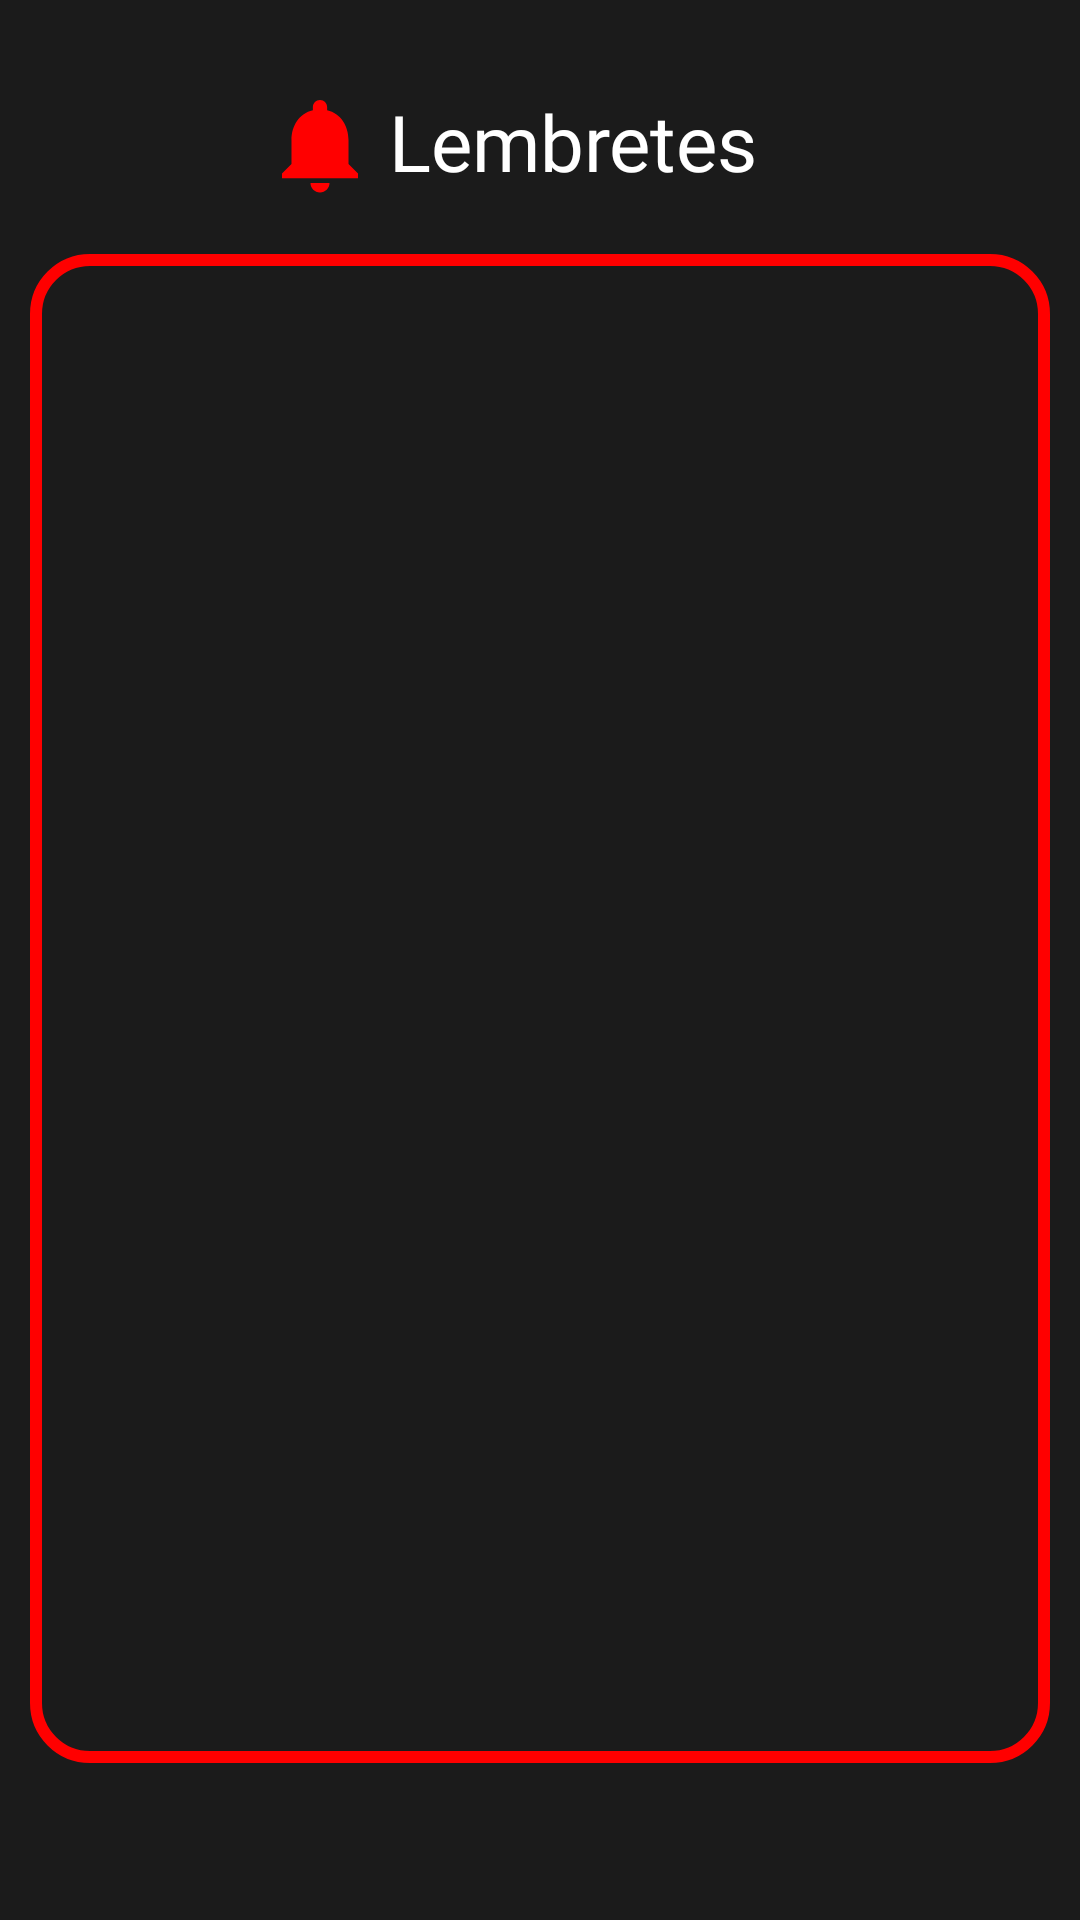

Icon click points for this 1080px×1920px phone screenshot, format [x,y]:
notifications: [320,146]
